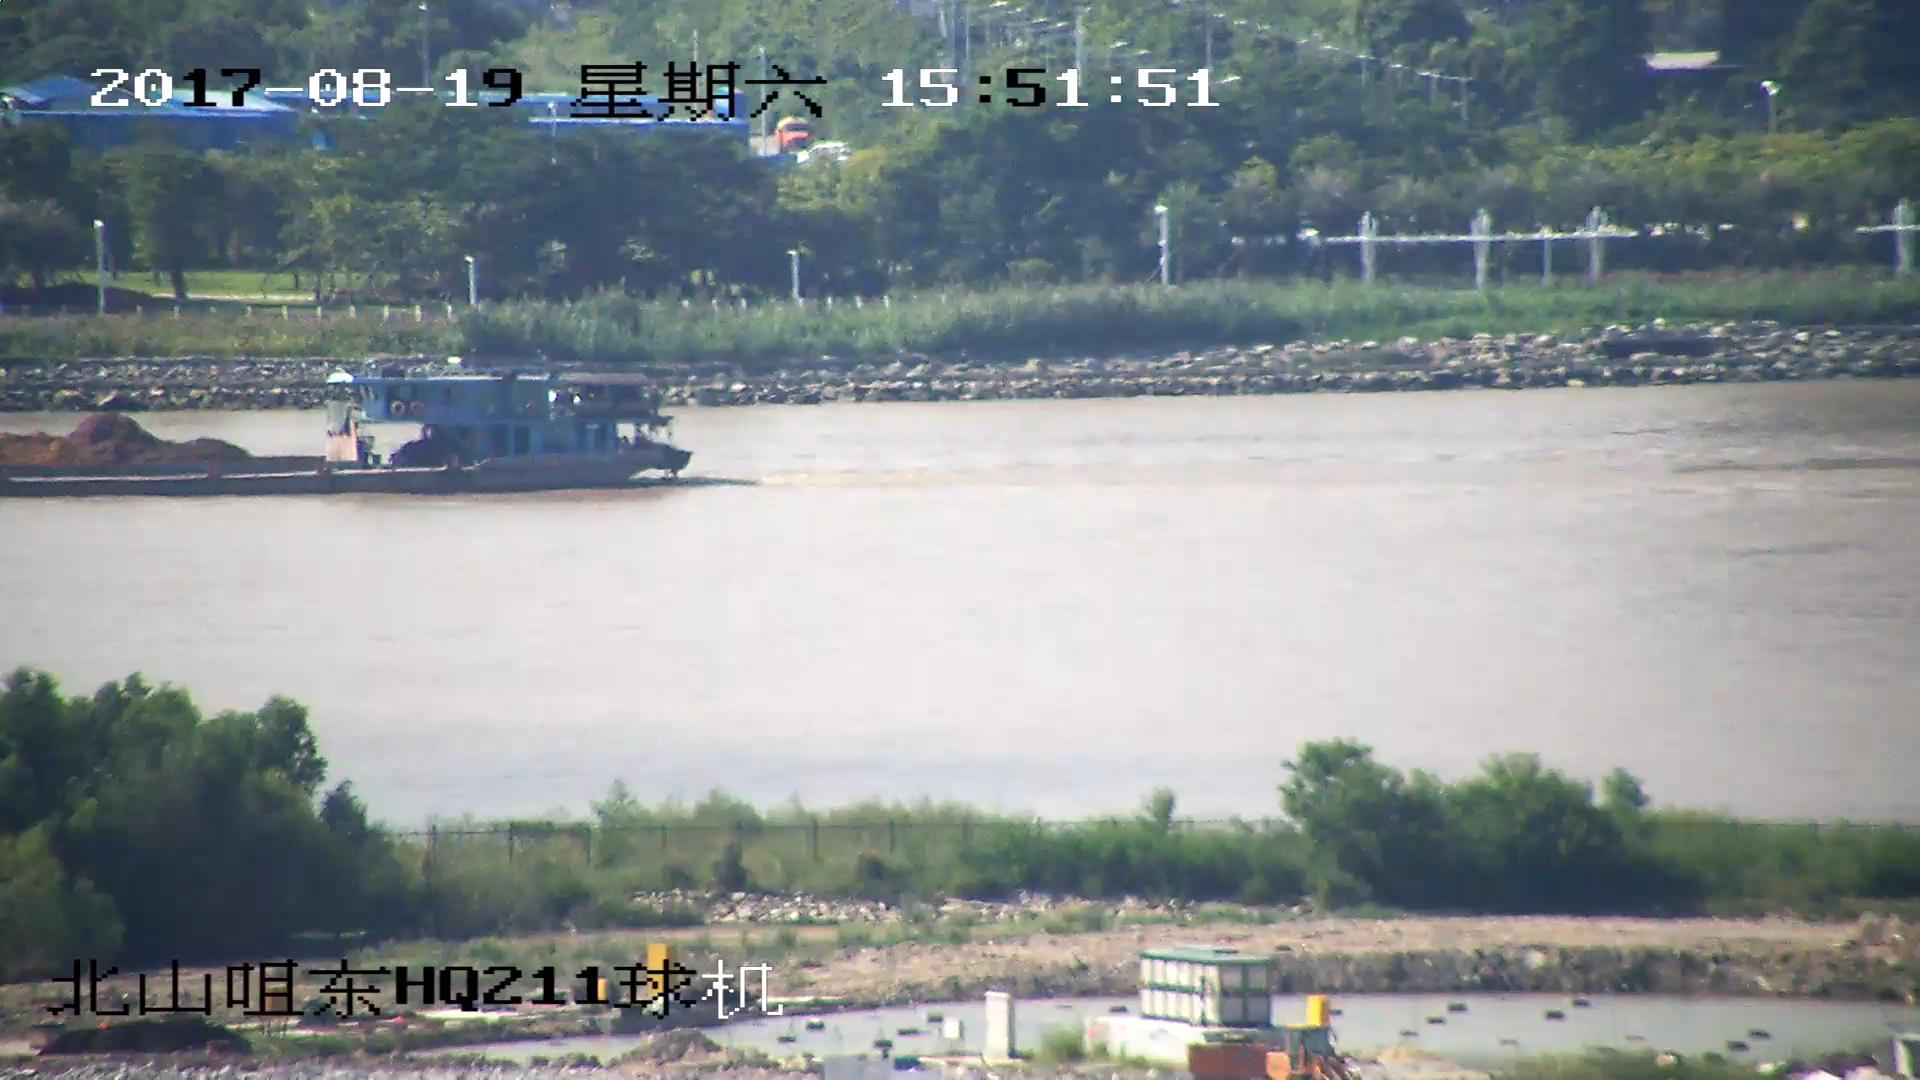Ship: (3, 356, 694, 498)
